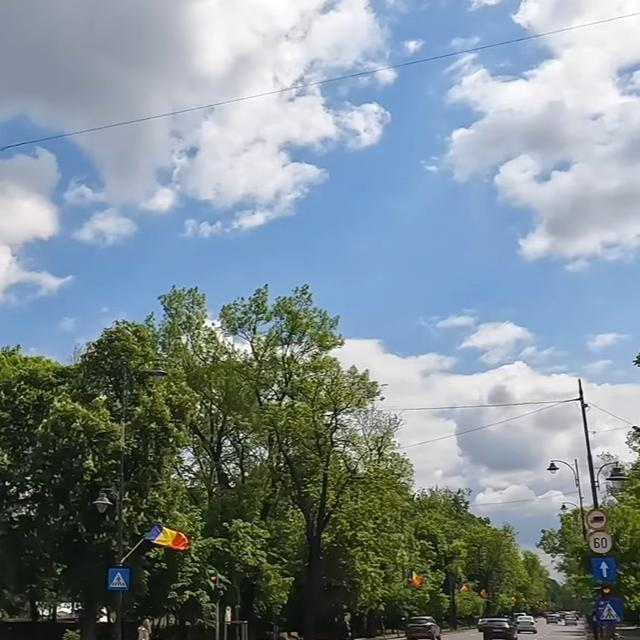forb_speed_over_60: (589, 532, 612, 555)
info_crosswalk: (596, 599, 624, 624), (107, 566, 130, 590)
